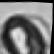correct: (0, 2, 54, 54)
